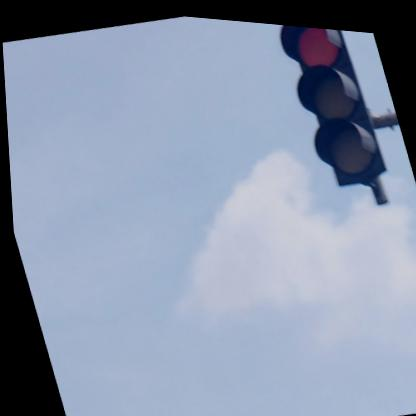red: (275, 19, 388, 189)
